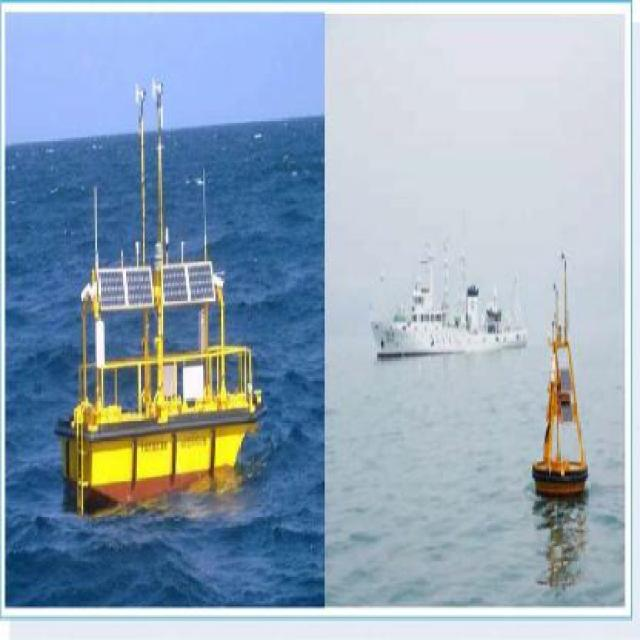buoy: (53, 67, 280, 543), (528, 224, 596, 564)
